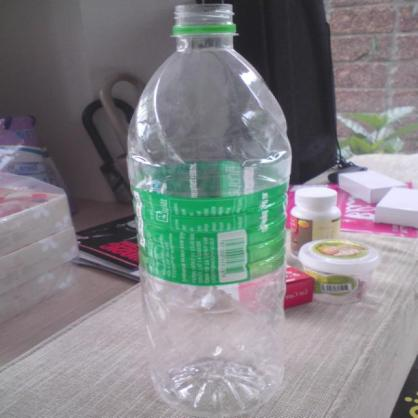bottle: (131, 3, 290, 410)
label: (139, 182, 287, 286)
